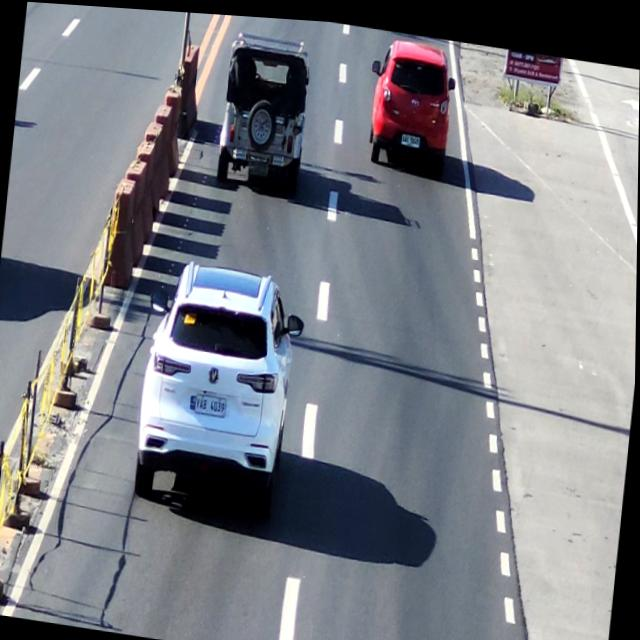Car: (138, 256, 310, 518), (362, 33, 463, 176)
Jeep: (210, 23, 317, 201)
License-Plate: (190, 387, 232, 423), (399, 124, 425, 148)
